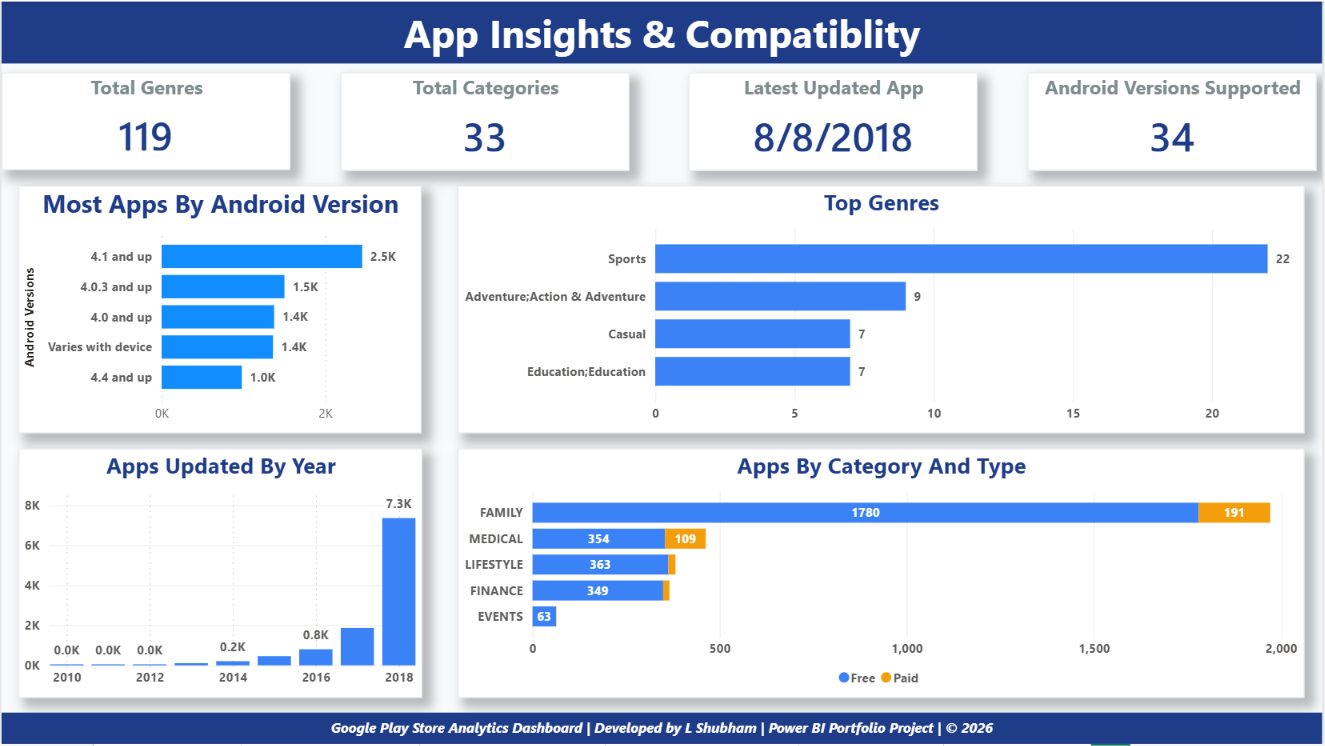

This screenshot's page, from the dashboard's own definition file:
{"tool":"powerbi","page":{"name":"App Insights & Compatiblity","canvas":[1280,720],"ordinal":3},"visuals":[{"type":"textbox","box":[9.8,0,128,60.2],"z":0},{"type":"textbox","box":[0,0,1280.3,60],"z":1000},{"type":"cardVisual","title":"Total Genres","fields":{"Data":["Measures .Total Genres"]},"box":[0,68.6,279.9,94.7],"z":2000},{"type":"cardVisual","title":"Total Categories","fields":{"Data":["Measures .Total Distinct Categories"]},"box":[328.3,68.7,280,95],"z":3000},{"type":"cardVisual","title":"Android Versions Supported","fields":{"Data":["Measures .Android Versions"]},"box":[994.6,68.7,280,95],"z":4000},{"type":"cardVisual","title":"Latest Updated App","fields":{"Data":["Measures .Latest Updated App"]},"box":[665.5,68.7,280,95],"z":5000},{"type":"clusteredBarChart","title":"Most Apps By Android Version","fields":{"Category":["Apps.Android Ver"],"Y":["CountNonNull(Apps.App)"]},"box":[16.5,178.4,390,240],"z":6000},{"type":"clusteredBarChart","title":"Top Genres","fields":{"Category":["Apps.Genres"],"Y":["CountNonNull(Apps.App)"]},"box":[441.9,178.4,820.6,240.1],"z":7000},{"type":"clusteredColumnChart","title":"Apps Updated By Year","fields":{"Y":["CountNonNull(Apps.App)"],"Category":["Apps.UpdateYear"]},"box":[16.5,433.6,391.1,241.5],"z":8000},{"type":"barChart","title":"Apps By Category And Type","fields":{"Category":["Apps.Category"],"Y":["CountNonNull(Apps.App)"],"Series":["Apps.Type"]},"box":[441.9,433.6,820.6,241.5],"z":9000},{"type":"textbox","box":[0,688.9,1280.3,30],"z":9001}]}

Visuals, with their boxes in screenshot pixels (x1, y1, x2, y2), scaled from the page's 1280x720 canvas onto the 1325x746 screenshot:
textbox: <bbox>10, 0, 143, 62</bbox>
textbox: <bbox>0, 0, 1324, 62</bbox>
"Total Genres" cardVisual: <bbox>0, 71, 290, 169</bbox>
"Total Categories" cardVisual: <bbox>340, 71, 630, 170</bbox>
"Android Versions Supported" cardVisual: <bbox>1030, 71, 1319, 170</bbox>
"Latest Updated App" cardVisual: <bbox>689, 71, 979, 170</bbox>
"Most Apps By Android Version" clusteredBarChart: <bbox>17, 185, 421, 434</bbox>
"Top Genres" clusteredBarChart: <bbox>457, 185, 1307, 434</bbox>
"Apps Updated By Year" clusteredColumnChart: <bbox>17, 449, 422, 699</bbox>
"Apps By Category And Type" barChart: <bbox>457, 449, 1307, 699</bbox>
textbox: <bbox>0, 714, 1324, 745</bbox>
